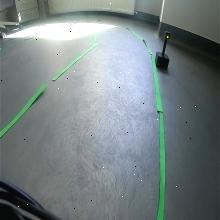green: (163, 30, 171, 40)
